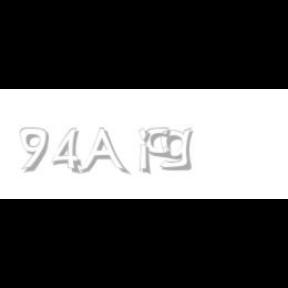4: (50, 128, 82, 174)
9: (20, 128, 48, 172)
A: (79, 128, 127, 176)
c: (146, 128, 174, 160)
g: (160, 128, 197, 171)
i: (138, 128, 154, 176)
